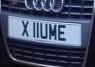E: (58, 23, 67, 42)
I: (32, 20, 36, 38), (36, 21, 40, 39)
M: (49, 23, 57, 41)
U: (40, 21, 48, 41)
X: (21, 19, 29, 37)
